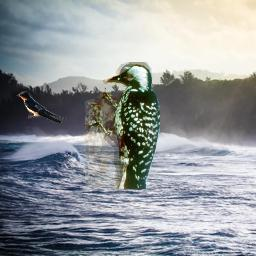Swallow: (16, 90, 69, 123)
Woodpecker: (85, 62, 160, 189)
